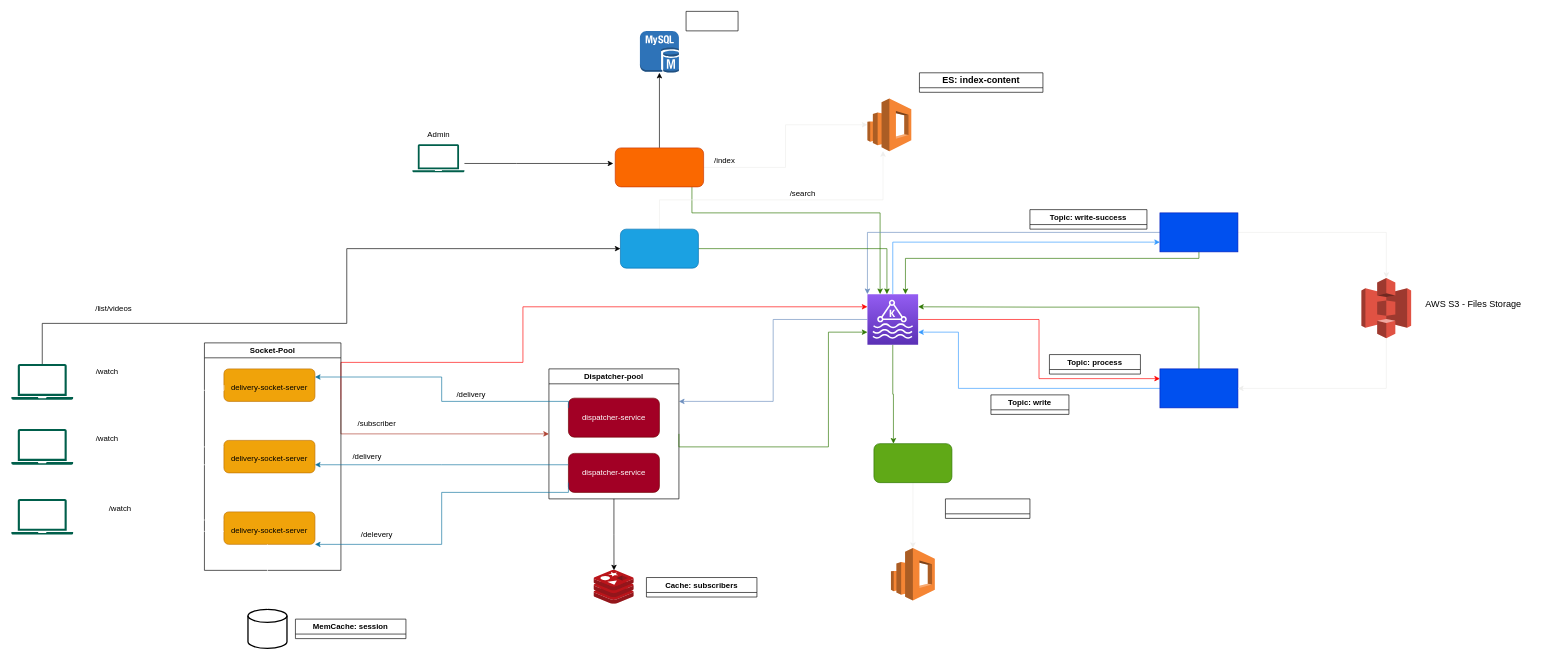
This 1546x660 diagram has some shape labels left out. Here are the shapes that lost their labels. From the top down, the centre of each, then its label:
At point (711, 21): "Tables".
At point (659, 167): "admin-manager".
At point (659, 248): "content-searcher".
At point (1198, 232): "process-writter".
At point (1198, 388): "process-reader".
At point (912, 463): "logcenter".
